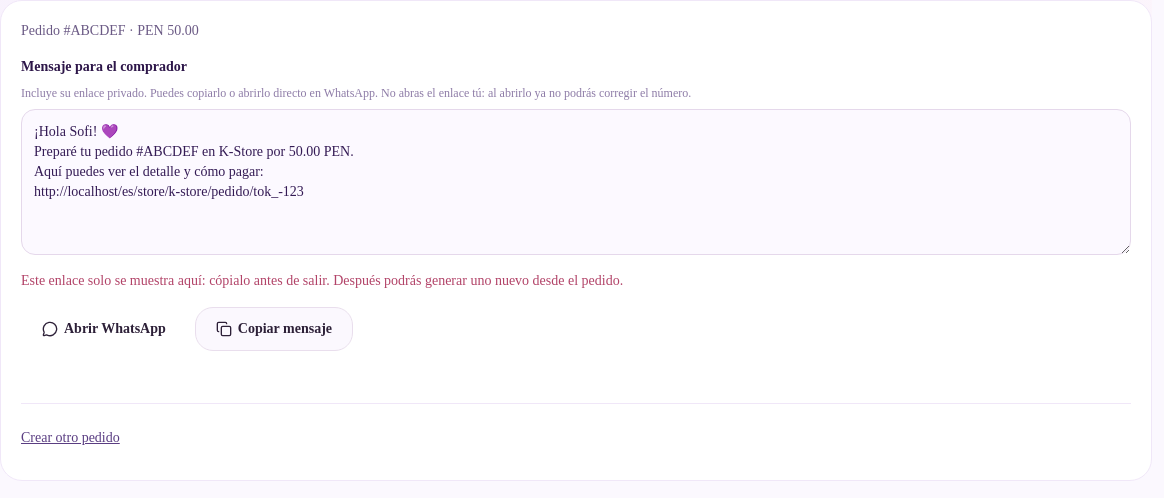
copying confirms with a status message
The image size is (1164, 498).
Click the button "Copiar mensaje" at (274, 329), box [195, 307, 353, 351]
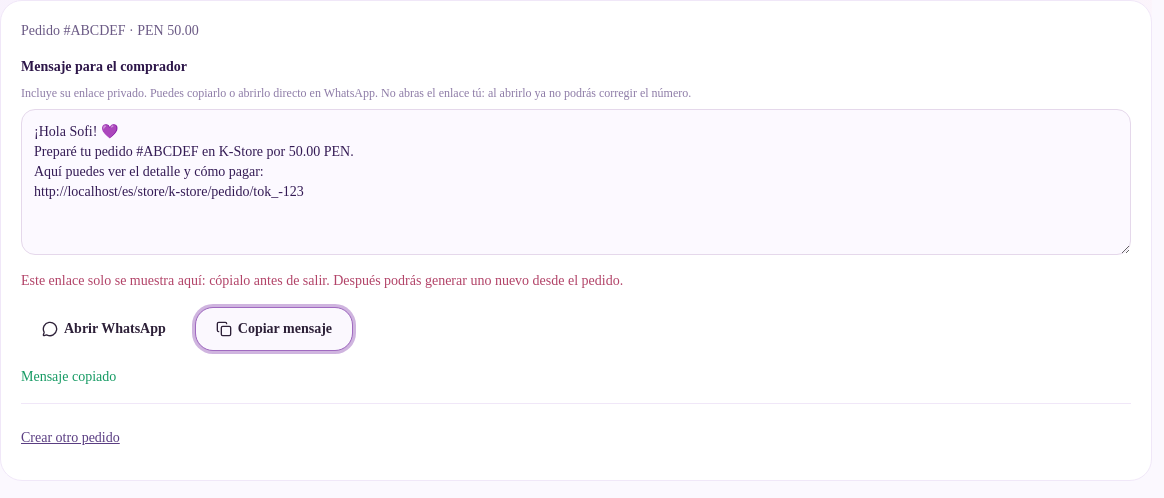
Result: the text "Mensaje copiado" is shown at [21, 369, 116, 384]
